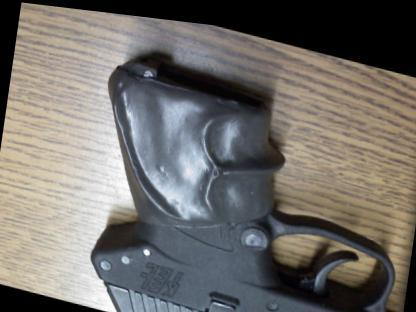pistol: (76, 40, 415, 312)
